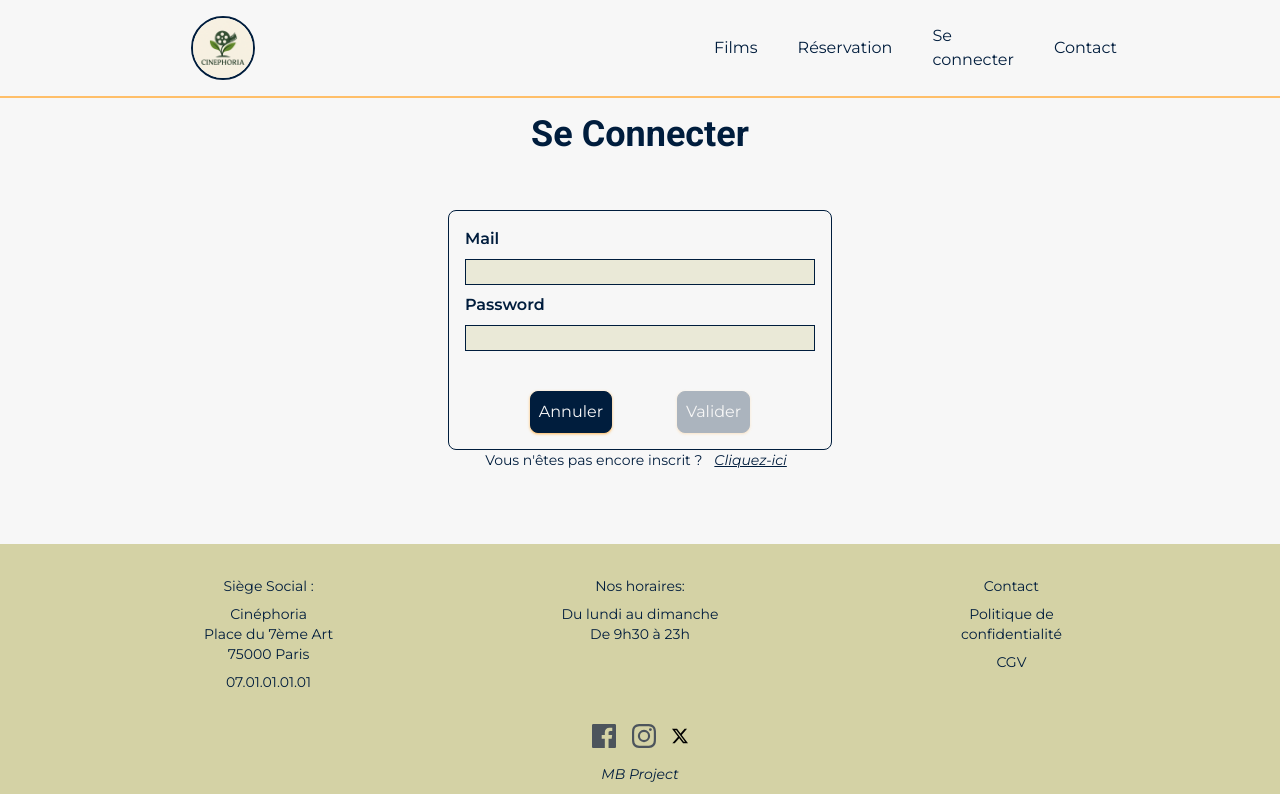
it: Movie CRUD, login to logout › should disconnect when finish
Step 1. Type "employee.user@gmail.com" into the field → [640, 272], box [465,259,815,285]
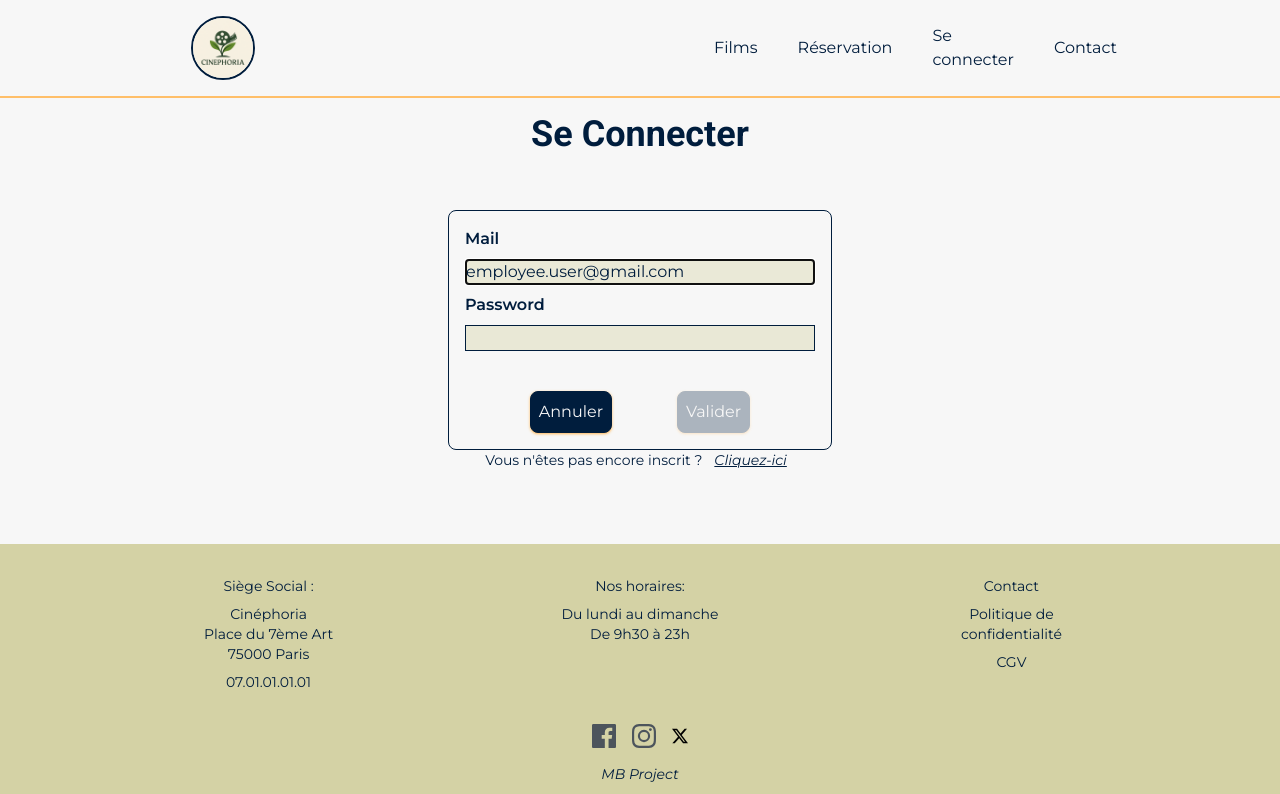
Step 2. Type "Qsdfghjklm&2" into the password field → [640, 338], box [465,325,815,351]
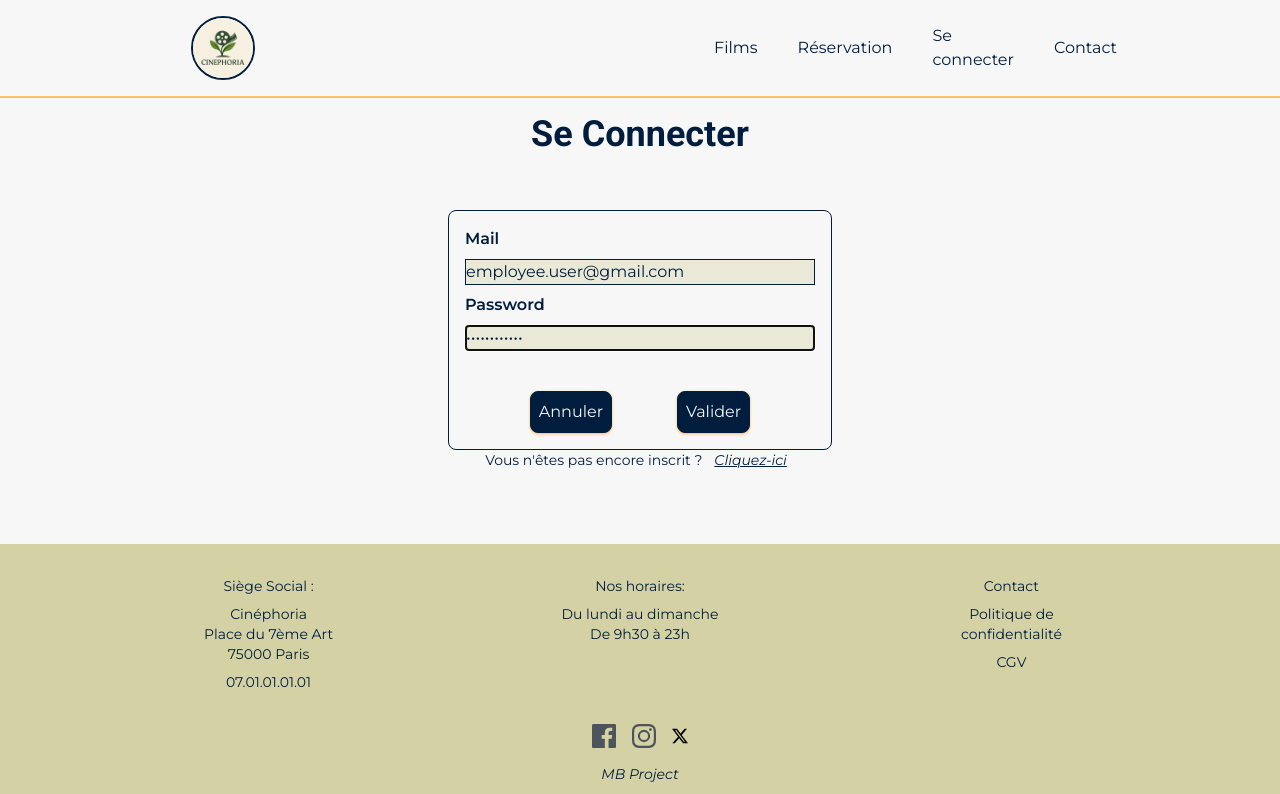
Step 3. Click the button with test id "submit-form-btn" → [714, 412], box [677,391,750,433]
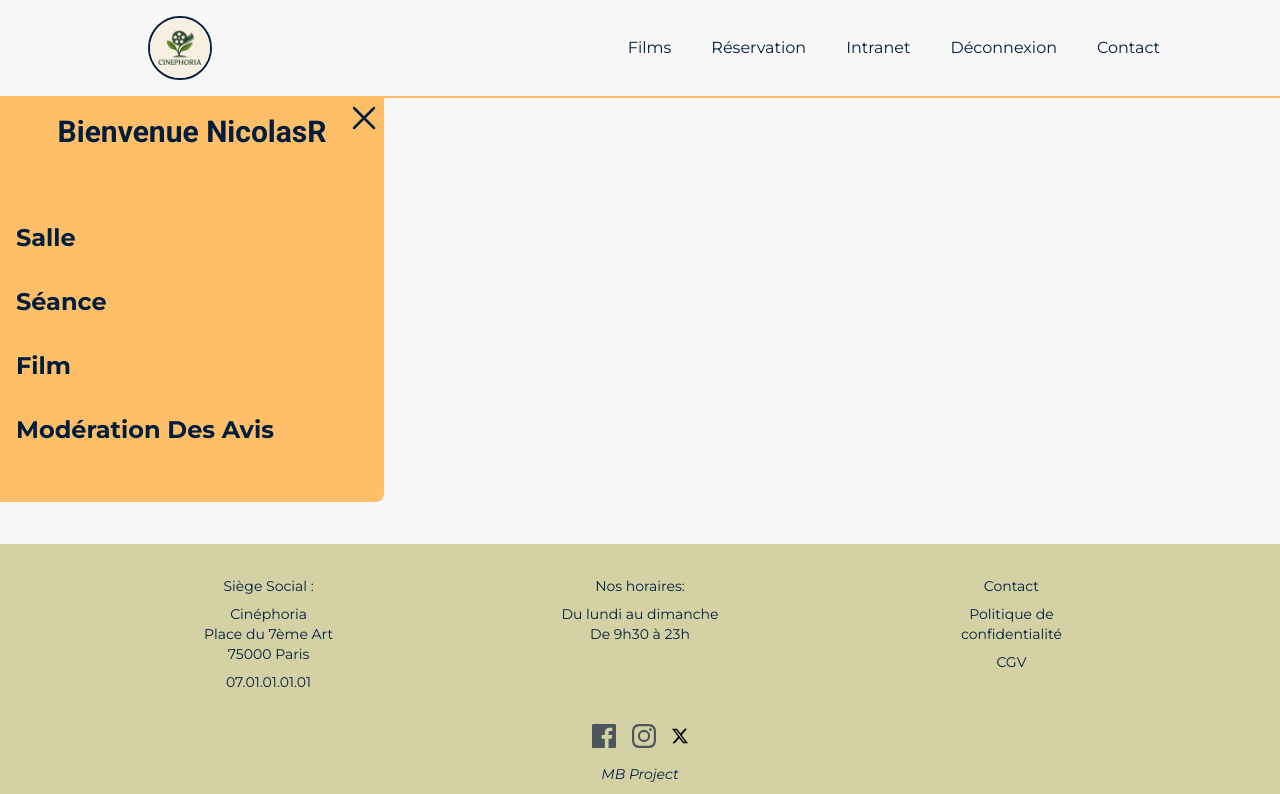
Now the link with test id "sidebarItem" is shown, box [16,223,76,252]
Step 4. Click the link with test id "sidebarItem" → [44, 366], box [16,351,71,380]
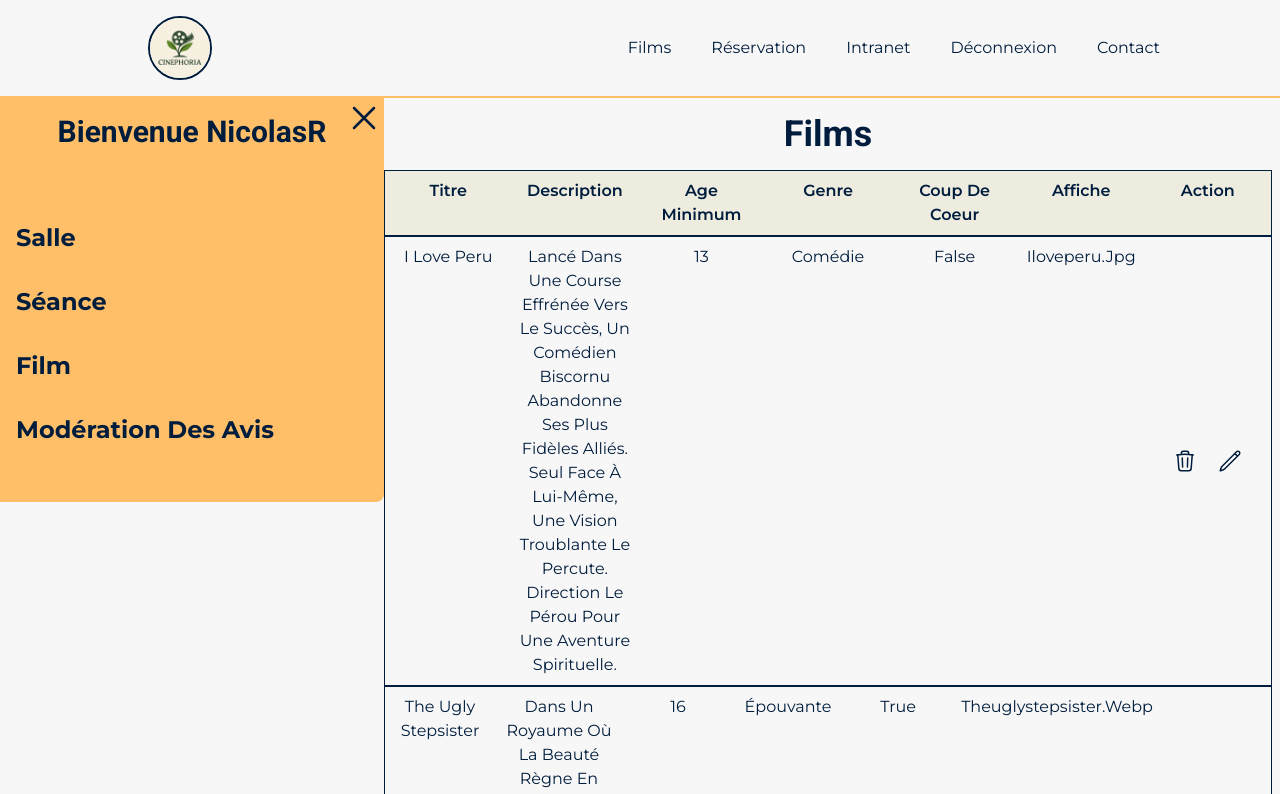
Step 5. Click the link with test id "navbar-logout" → [1005, 48], box [951,38,1058,57]
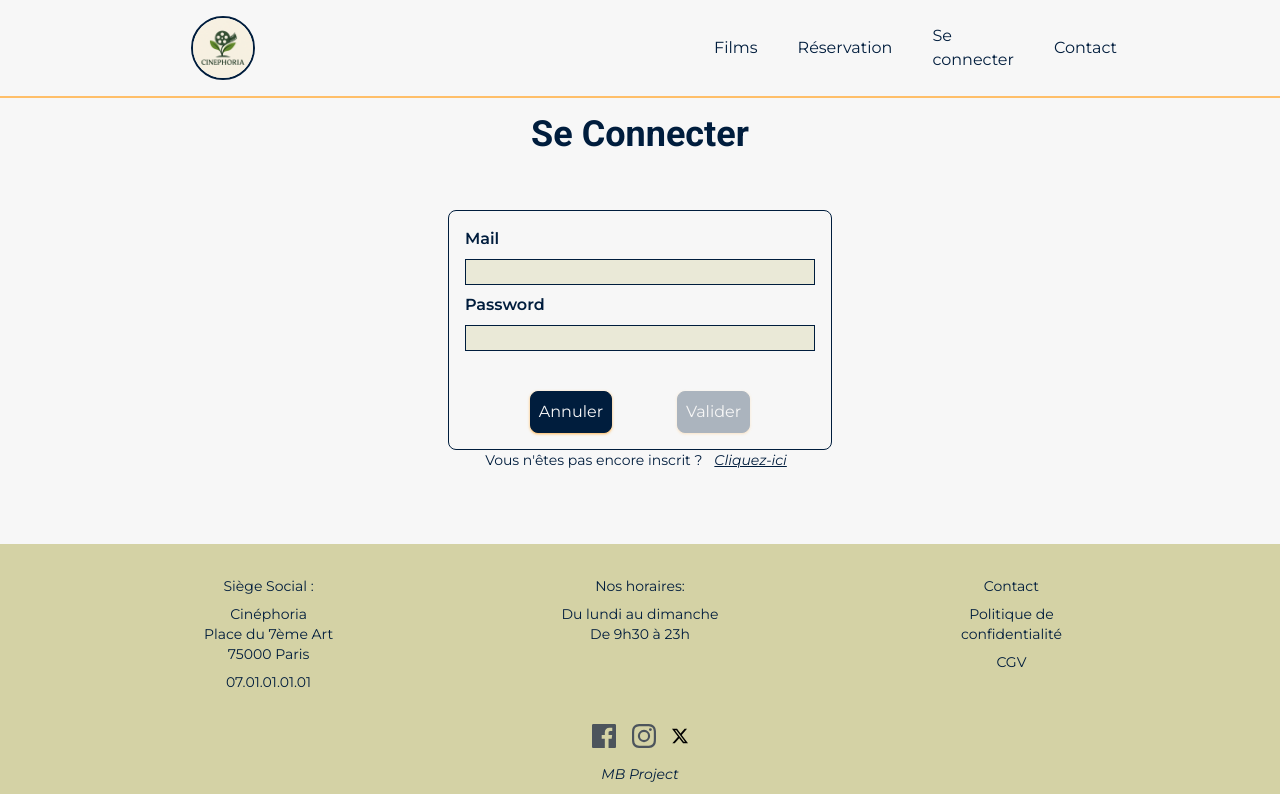
Now the link with test id "navbar-logout" is gone
